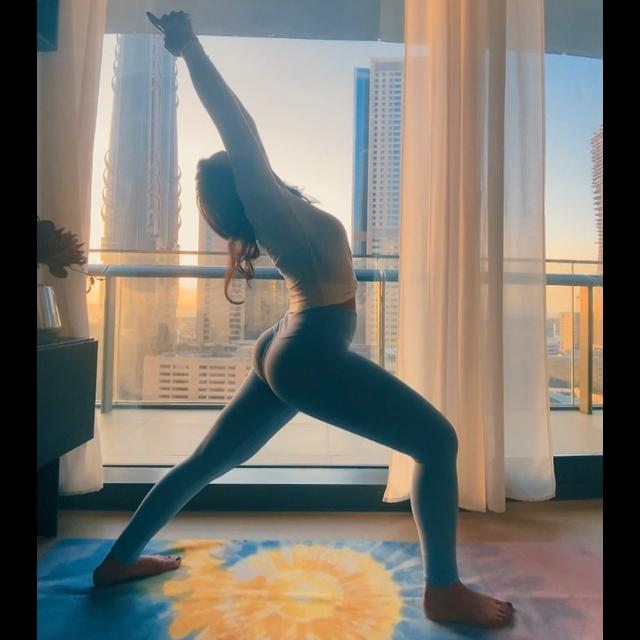Warrior_I: (36, 6, 523, 636)
